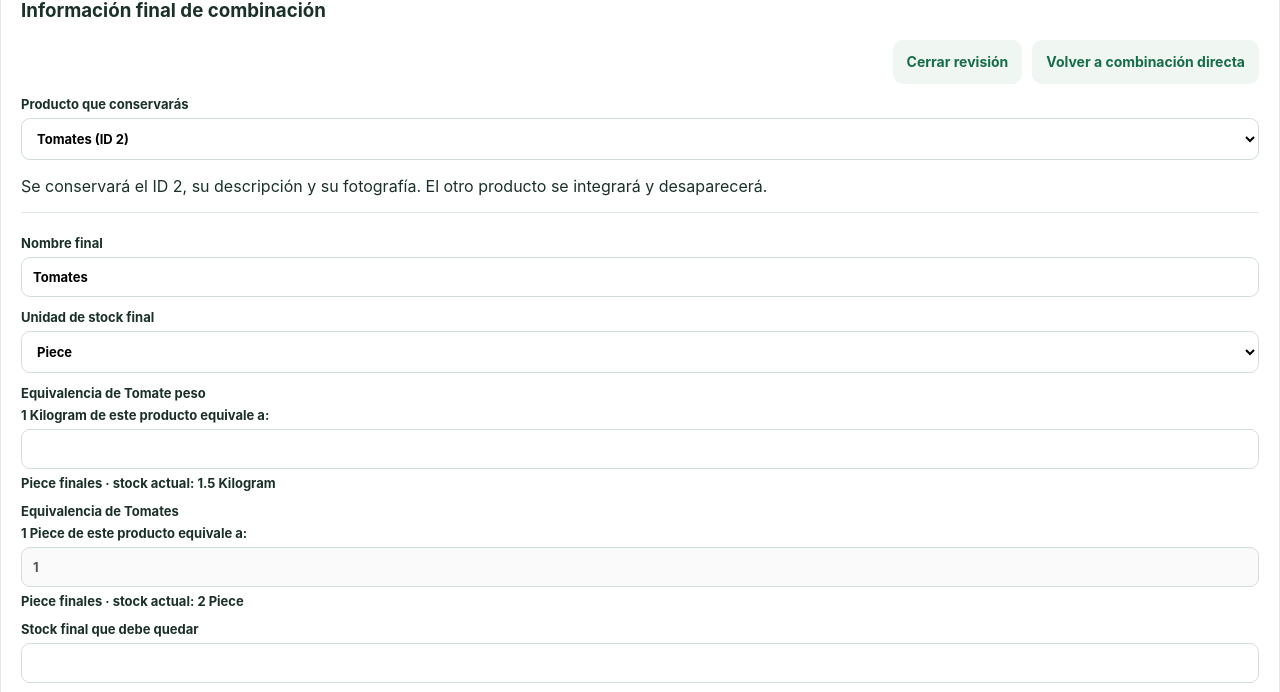
Test case: requires exact final name and locks after a single uncertain commit
Type "2" into the number field labelled "Equivalencia de Tomate peso" at point(640, 449), box [21,429,1259,469]
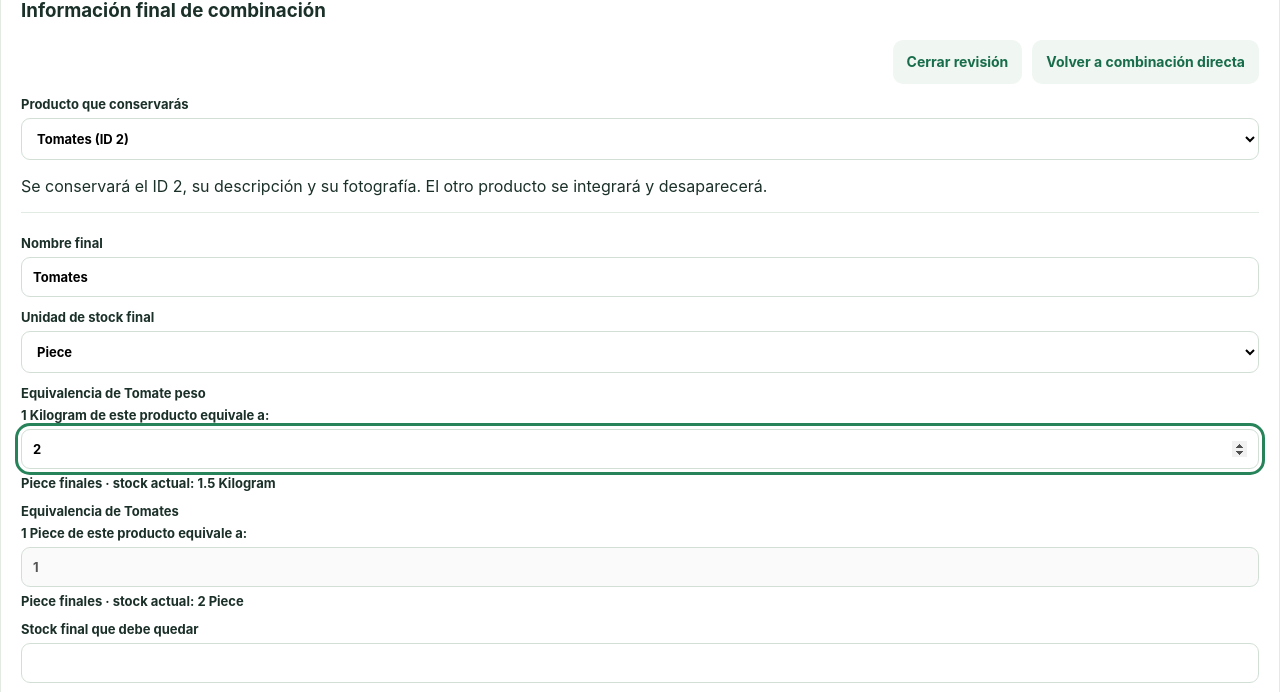
Type "4" into the number field labelled "Stock final que debe quedar" at point(640, 663), box [21,643,1259,683]
(page scrolled)
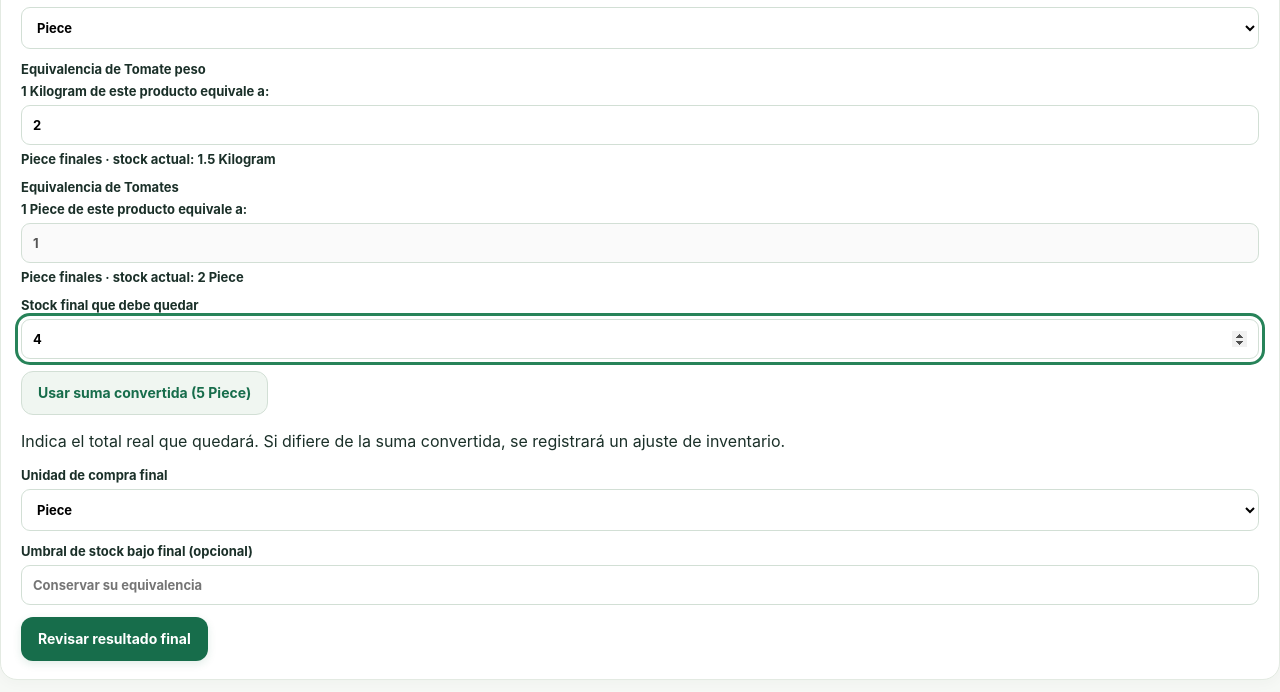
Click the button "Revisar resultado final" at point(114, 639), box [21,617,208,661]
(page scrolled)
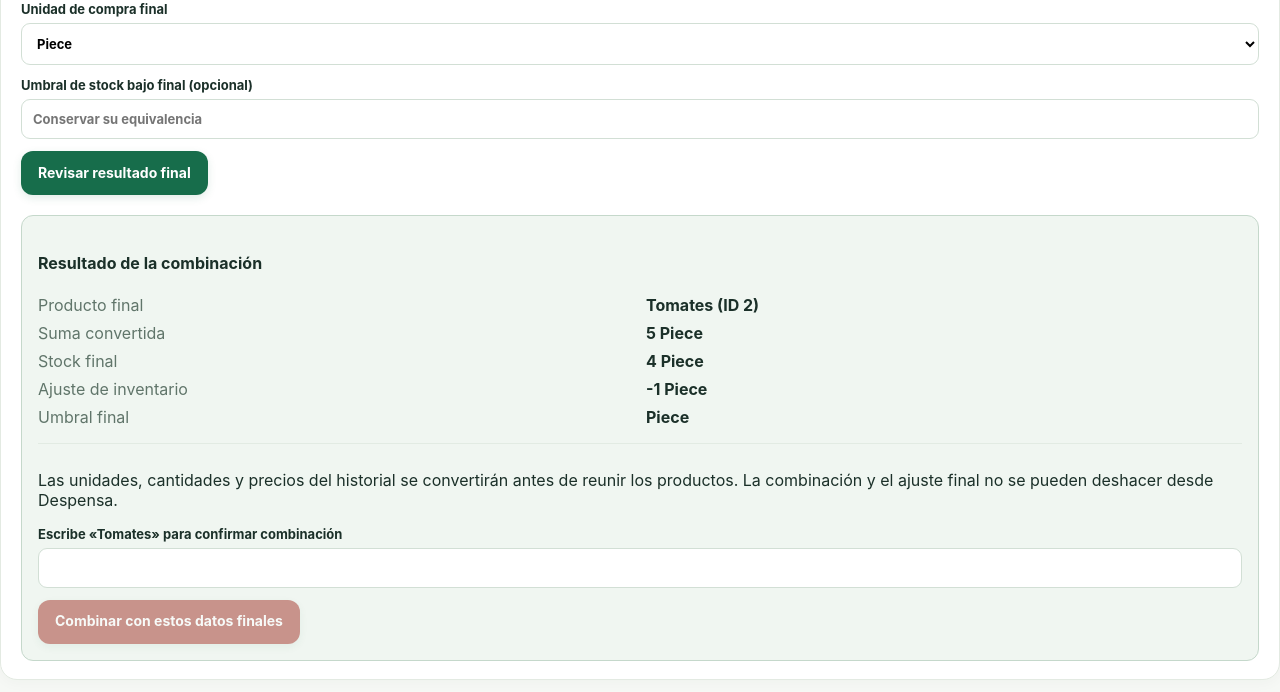
expect the button "Combinar con estos datos finales" is disabled: met, box [38,600,300,644]
Type "Tomates" into the field labelled "Escribe «Tomates» para confirmar combinación" at point(640, 568), box [38,548,1242,588]
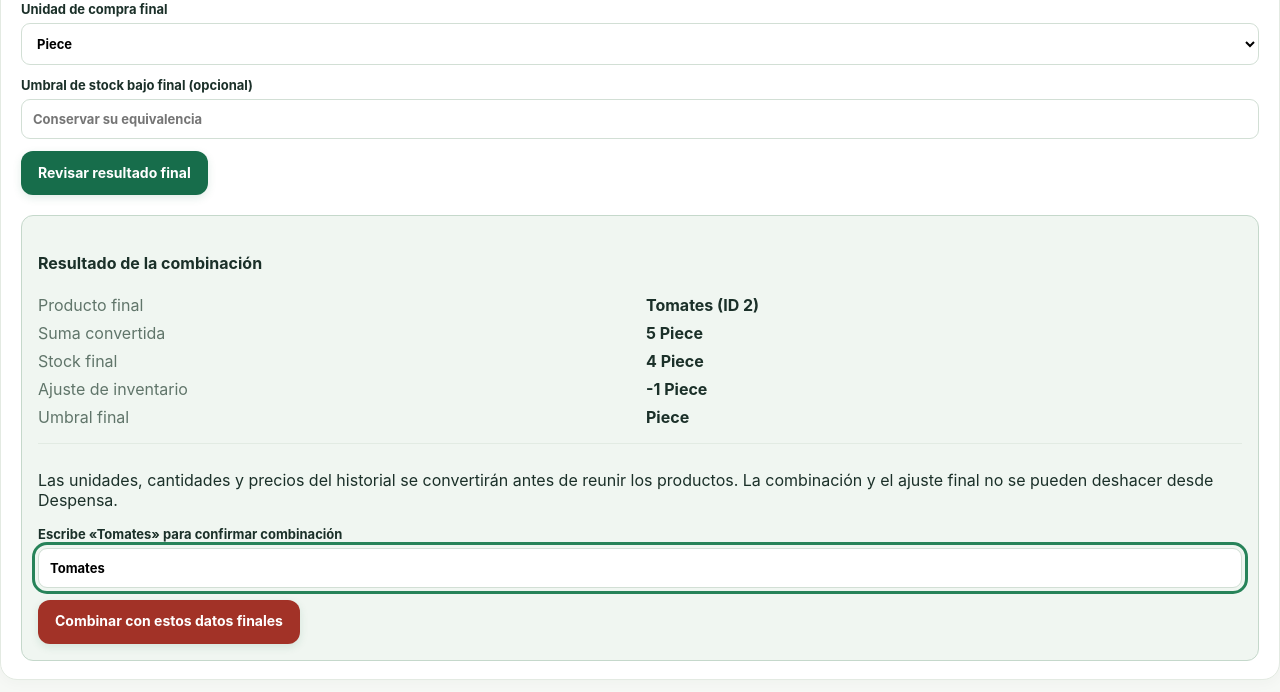
Double-click the button "Combinar con estos datos finales" at point(169, 622), box [38,600,300,644]
(page scrolled)
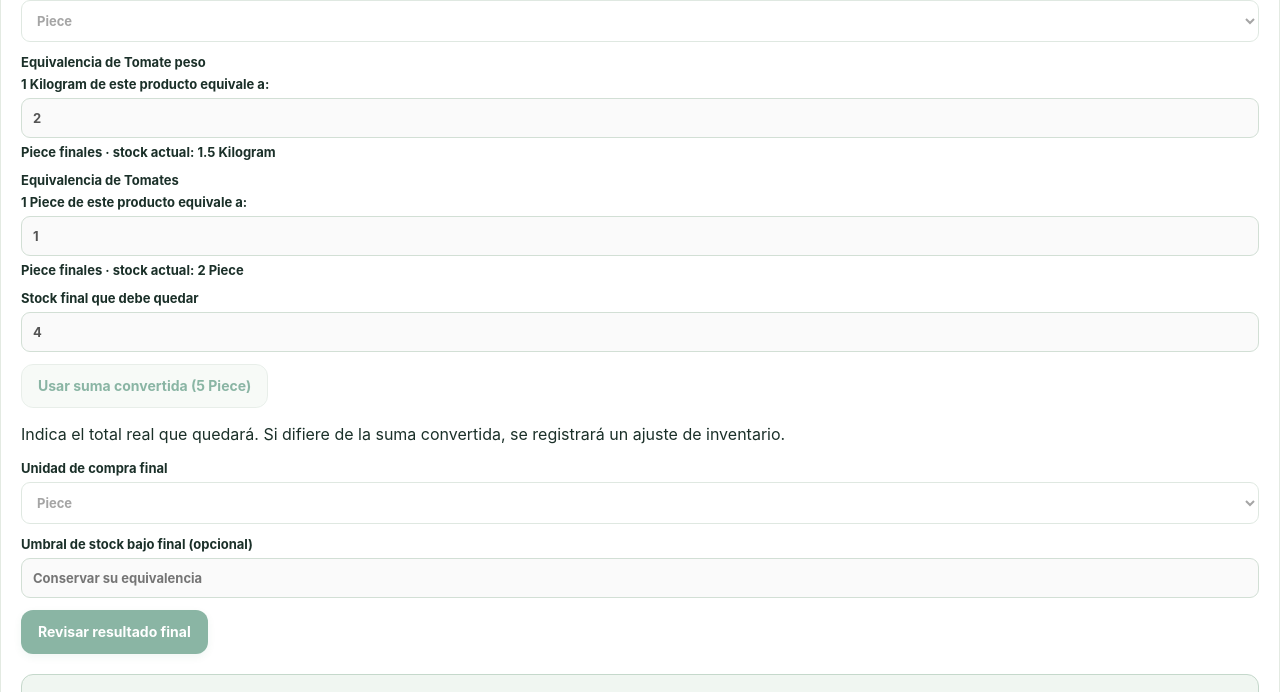
expect the number field labelled "Stock final que debe quedar" is disabled: met, box [21,312,1259,352]
